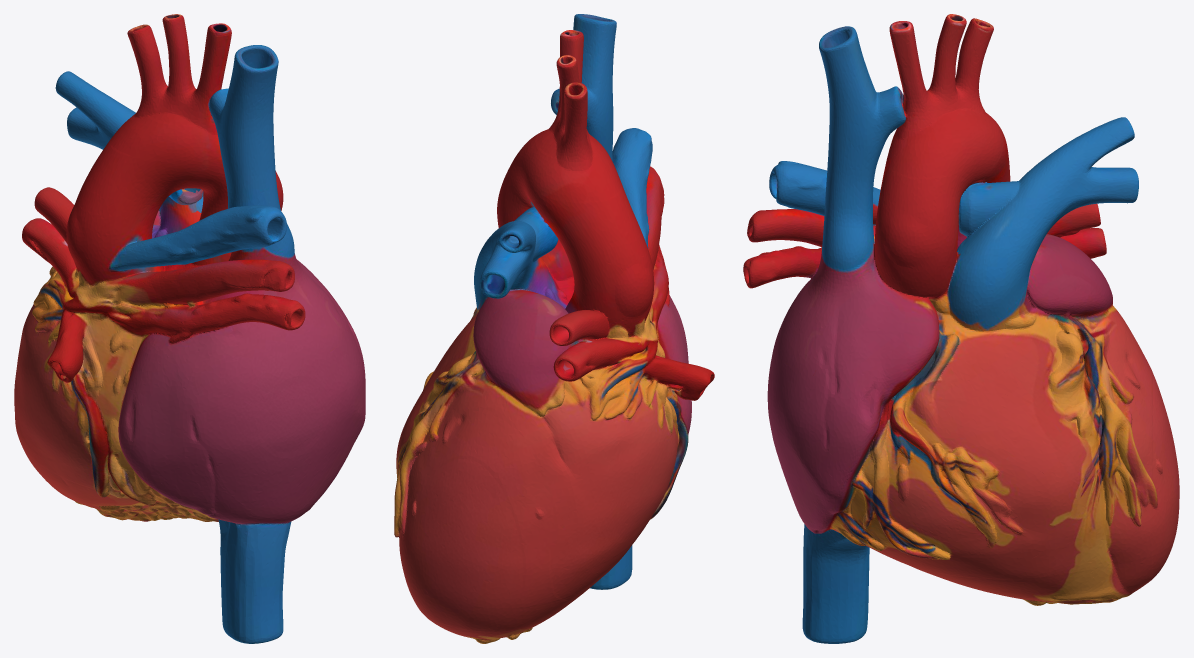
The model's file is heart.glb.
3 renders of one model, left to right at view 1: azimuth 30°, elevation 25°; view 2: azimuth 150°, elevation 25°; view 3: azimuth 270°, elevation 25°, orthographic. The views are drawn at different scales.
Visible parts, largest first — view 1: tripo_node_045d8eb0-72ec-4624-9759-a425f321d17a; view 2: tripo_node_045d8eb0-72ec-4624-9759-a425f321d17a; view 3: tripo_node_045d8eb0-72ec-4624-9759-a425f321d17a.
Part boxes in pixels (left/top/right/bottom): tripo_node_045d8eb0-72ec-4624-9759-a425f321d17a: left=14, top=14, right=365, bottom=643; tripo_node_045d8eb0-72ec-4624-9759-a425f321d17a: left=394, top=14, right=714, bottom=643; tripo_node_045d8eb0-72ec-4624-9759-a425f321d17a: left=743, top=14, right=1179, bottom=643.
Size of the model in its own units: 0.5022 by 1 by 0.6507.
1 material, 1 textured.
